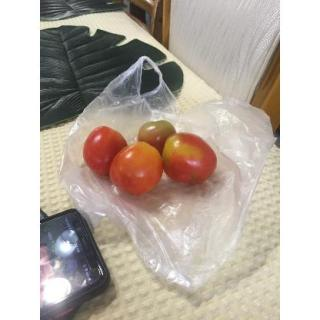Tomat: (72, 113, 239, 211)
